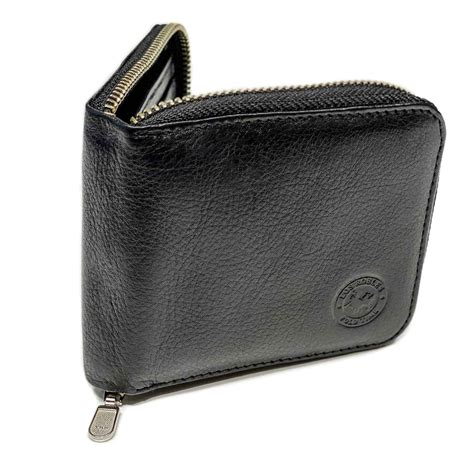cuero: (83, 22, 445, 391)
